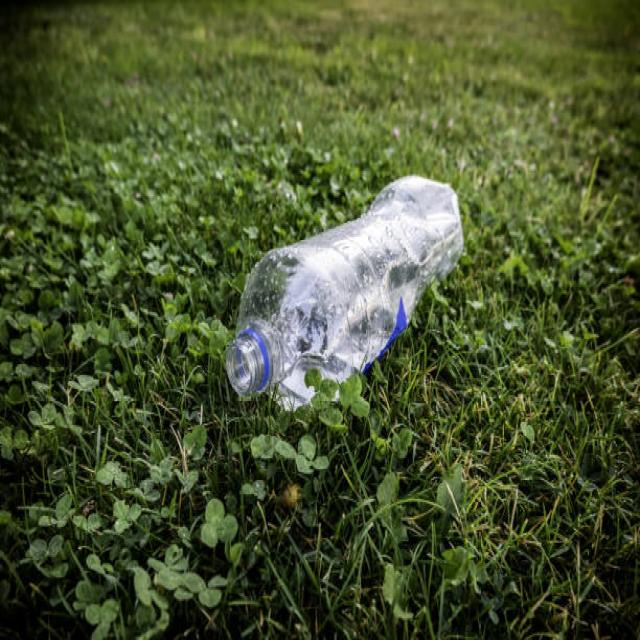plastic: (229, 176, 460, 405)
